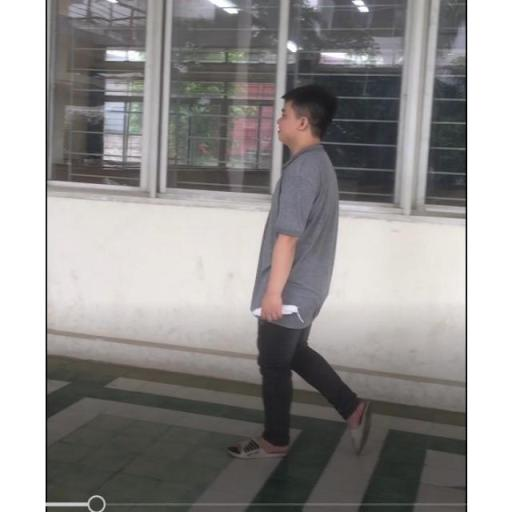Running: (231, 77, 375, 466)
